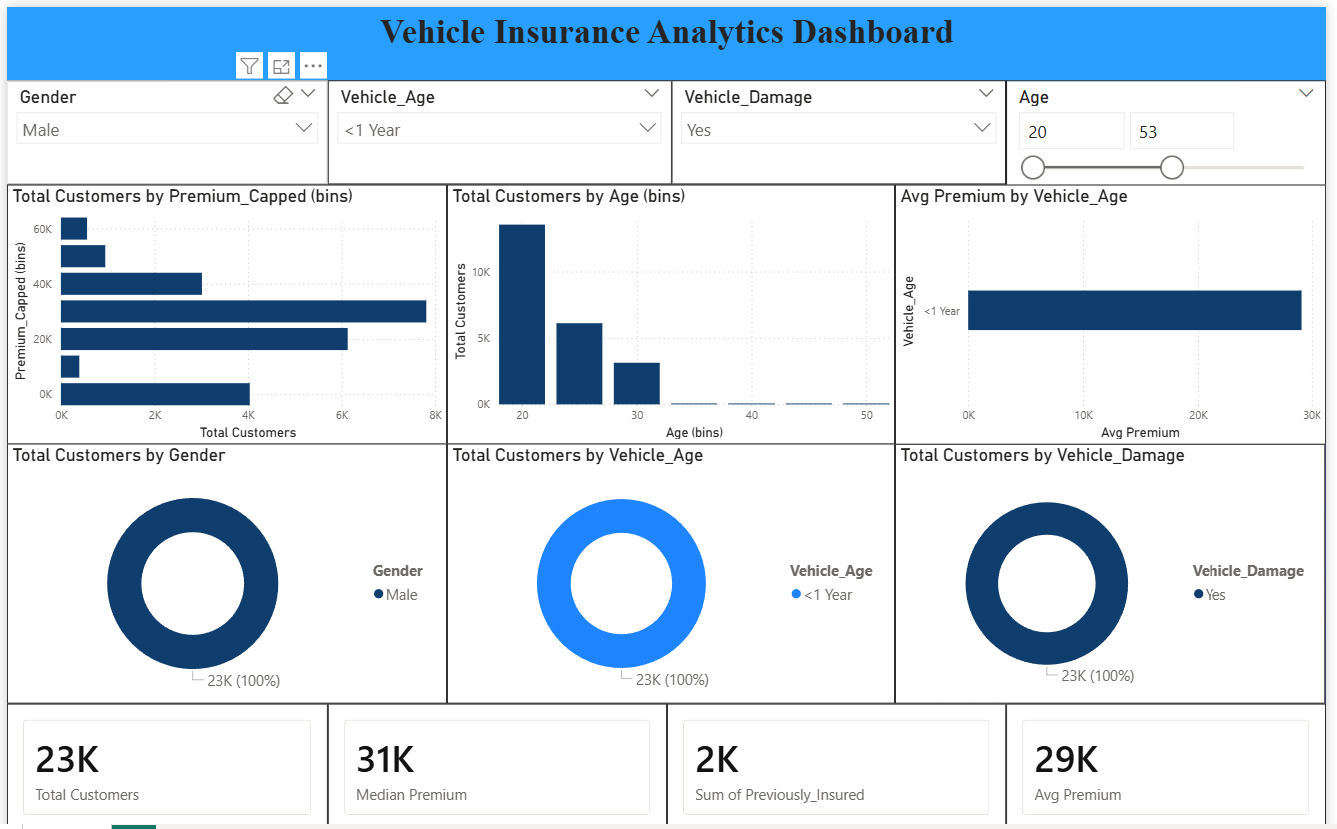

The dashboard page shown, as its layout file describes it:
{"tool":"powerbi","page":{"name":"Page 2","canvas":[1440,900],"ordinal":1},"visuals":[{"type":"textbox","box":[0,0,1440,80],"z":0},{"type":"cardVisual","fields":{"Data":["train.Total Customers"]},"box":[0,760,350,140],"z":1000},{"type":"cardVisual","fields":{"Data":["train.Median Premium"]},"box":[350,760,370,140],"z":2000},{"type":"cardVisual","fields":{"Data":["train.Avg Premium"]},"box":[1090,760,350,140],"z":3000},{"type":"slicer","fields":{"Values":["train.Gender"]},"box":[0,80,350,113.3],"z":4000},{"type":"slicer","fields":{"Values":["train.Vehicle_Age"]},"box":[350,80,375,113.3],"z":5000},{"type":"slicer","fields":{"Values":["train.Vehicle_Damage"]},"box":[725,80,365,113.3],"z":6000},{"type":"clusteredBarChart","fields":{"Category":["train.Premium_Capped (bins)"],"Y":["train.Total Customers"]},"box":[0,193.3,480,283.3],"z":7000},{"type":"clusteredColumnChart","fields":{"Category":["train.Age (bins)"],"Y":["train.Total Customers"]},"box":[480,193.3,488.3,283.3],"z":8000},{"type":"donutChart","fields":{"Y":["train.Total Customers"],"Category":["train.Gender"]},"box":[0,476.7,480,283.3],"z":9000},{"type":"donutChart","fields":{"Y":["train.Total Customers"],"Category":["train.Vehicle_Age"]},"box":[480,476.7,488.3,283.3],"z":10000},{"type":"donutChart","fields":{"Y":["train.Total Customers"],"Category":["train.Vehicle_Damage"]},"box":[968.3,476.7,470,283.3],"z":11000},{"type":"slicer","fields":{"Values":["train.Age"]},"box":[1090,80,350,193.3],"z":12000},{"type":"clusteredBarChart","fields":{"Y":["train.Avg Premium"],"Category":["train.Vehicle_Age"]},"box":[968.3,193.3,471.7,283.3],"z":13000},{"type":"cardVisual","fields":{"Data":["Sum(train.Previously_Insured)"]},"box":[720,760,370,140],"z":14000}]}

Visuals, with their boxes in screenshot pixels (x1, y1, x2, y2), scaled from the page's 1440x900 canvas onto the 1337x829 screenshot:
textbox: <box>0,0,1336,74</box>
cardVisual - train.Total Customers: <box>0,700,325,828</box>
cardVisual - train.Median Premium: <box>325,700,668,828</box>
cardVisual - train.Avg Premium: <box>1012,700,1336,828</box>
slicer - train.Gender: <box>0,74,325,178</box>
slicer - train.Vehicle_Age: <box>325,74,673,178</box>
slicer - train.Vehicle_Damage: <box>673,74,1012,178</box>
clusteredBarChart - train.Premium_Capped (bins) x train.Total Customers: <box>0,178,446,439</box>
clusteredColumnChart - train.Age (bins) x train.Total Customers: <box>446,178,899,439</box>
donutChart - train.Total Customers x train.Gender: <box>0,439,446,700</box>
donutChart - train.Total Customers x train.Vehicle_Age: <box>446,439,899,700</box>
donutChart - train.Total Customers x train.Vehicle_Damage: <box>899,439,1335,700</box>
slicer - train.Age: <box>1012,74,1336,252</box>
clusteredBarChart - train.Avg Premium x train.Vehicle_Age: <box>899,178,1336,439</box>
cardVisual - Sum(train.Previously_Insured): <box>668,700,1012,828</box>
